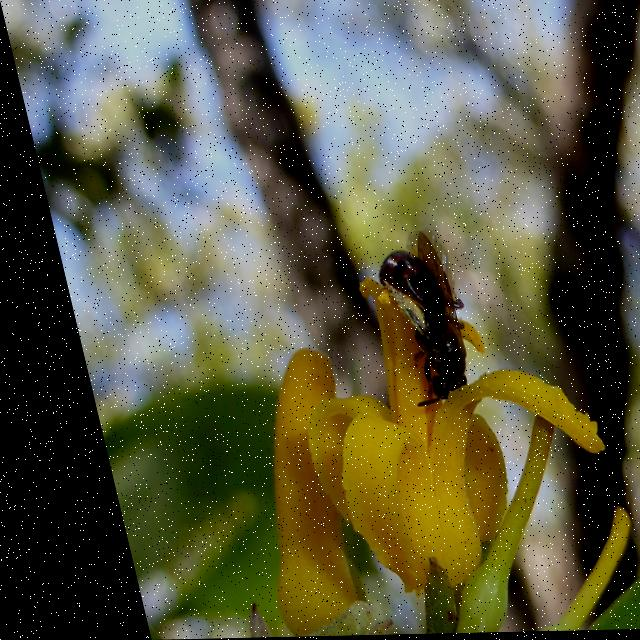Braunsapis: (342, 233, 477, 424)
